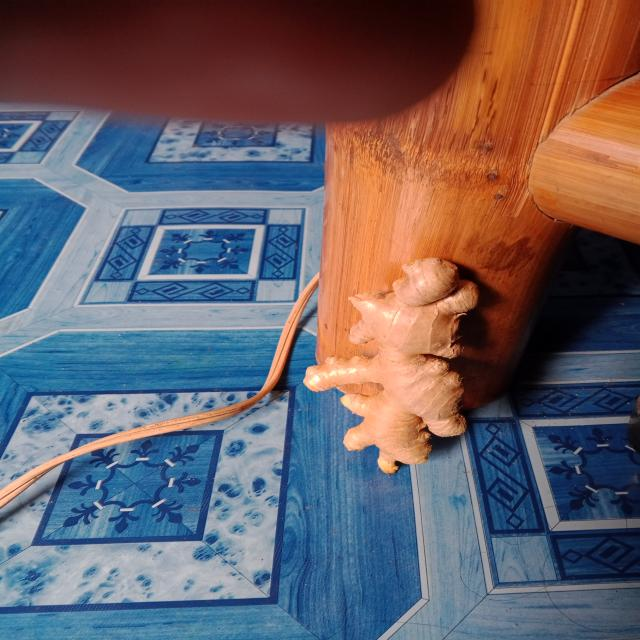ginger: (296, 252, 507, 483)
